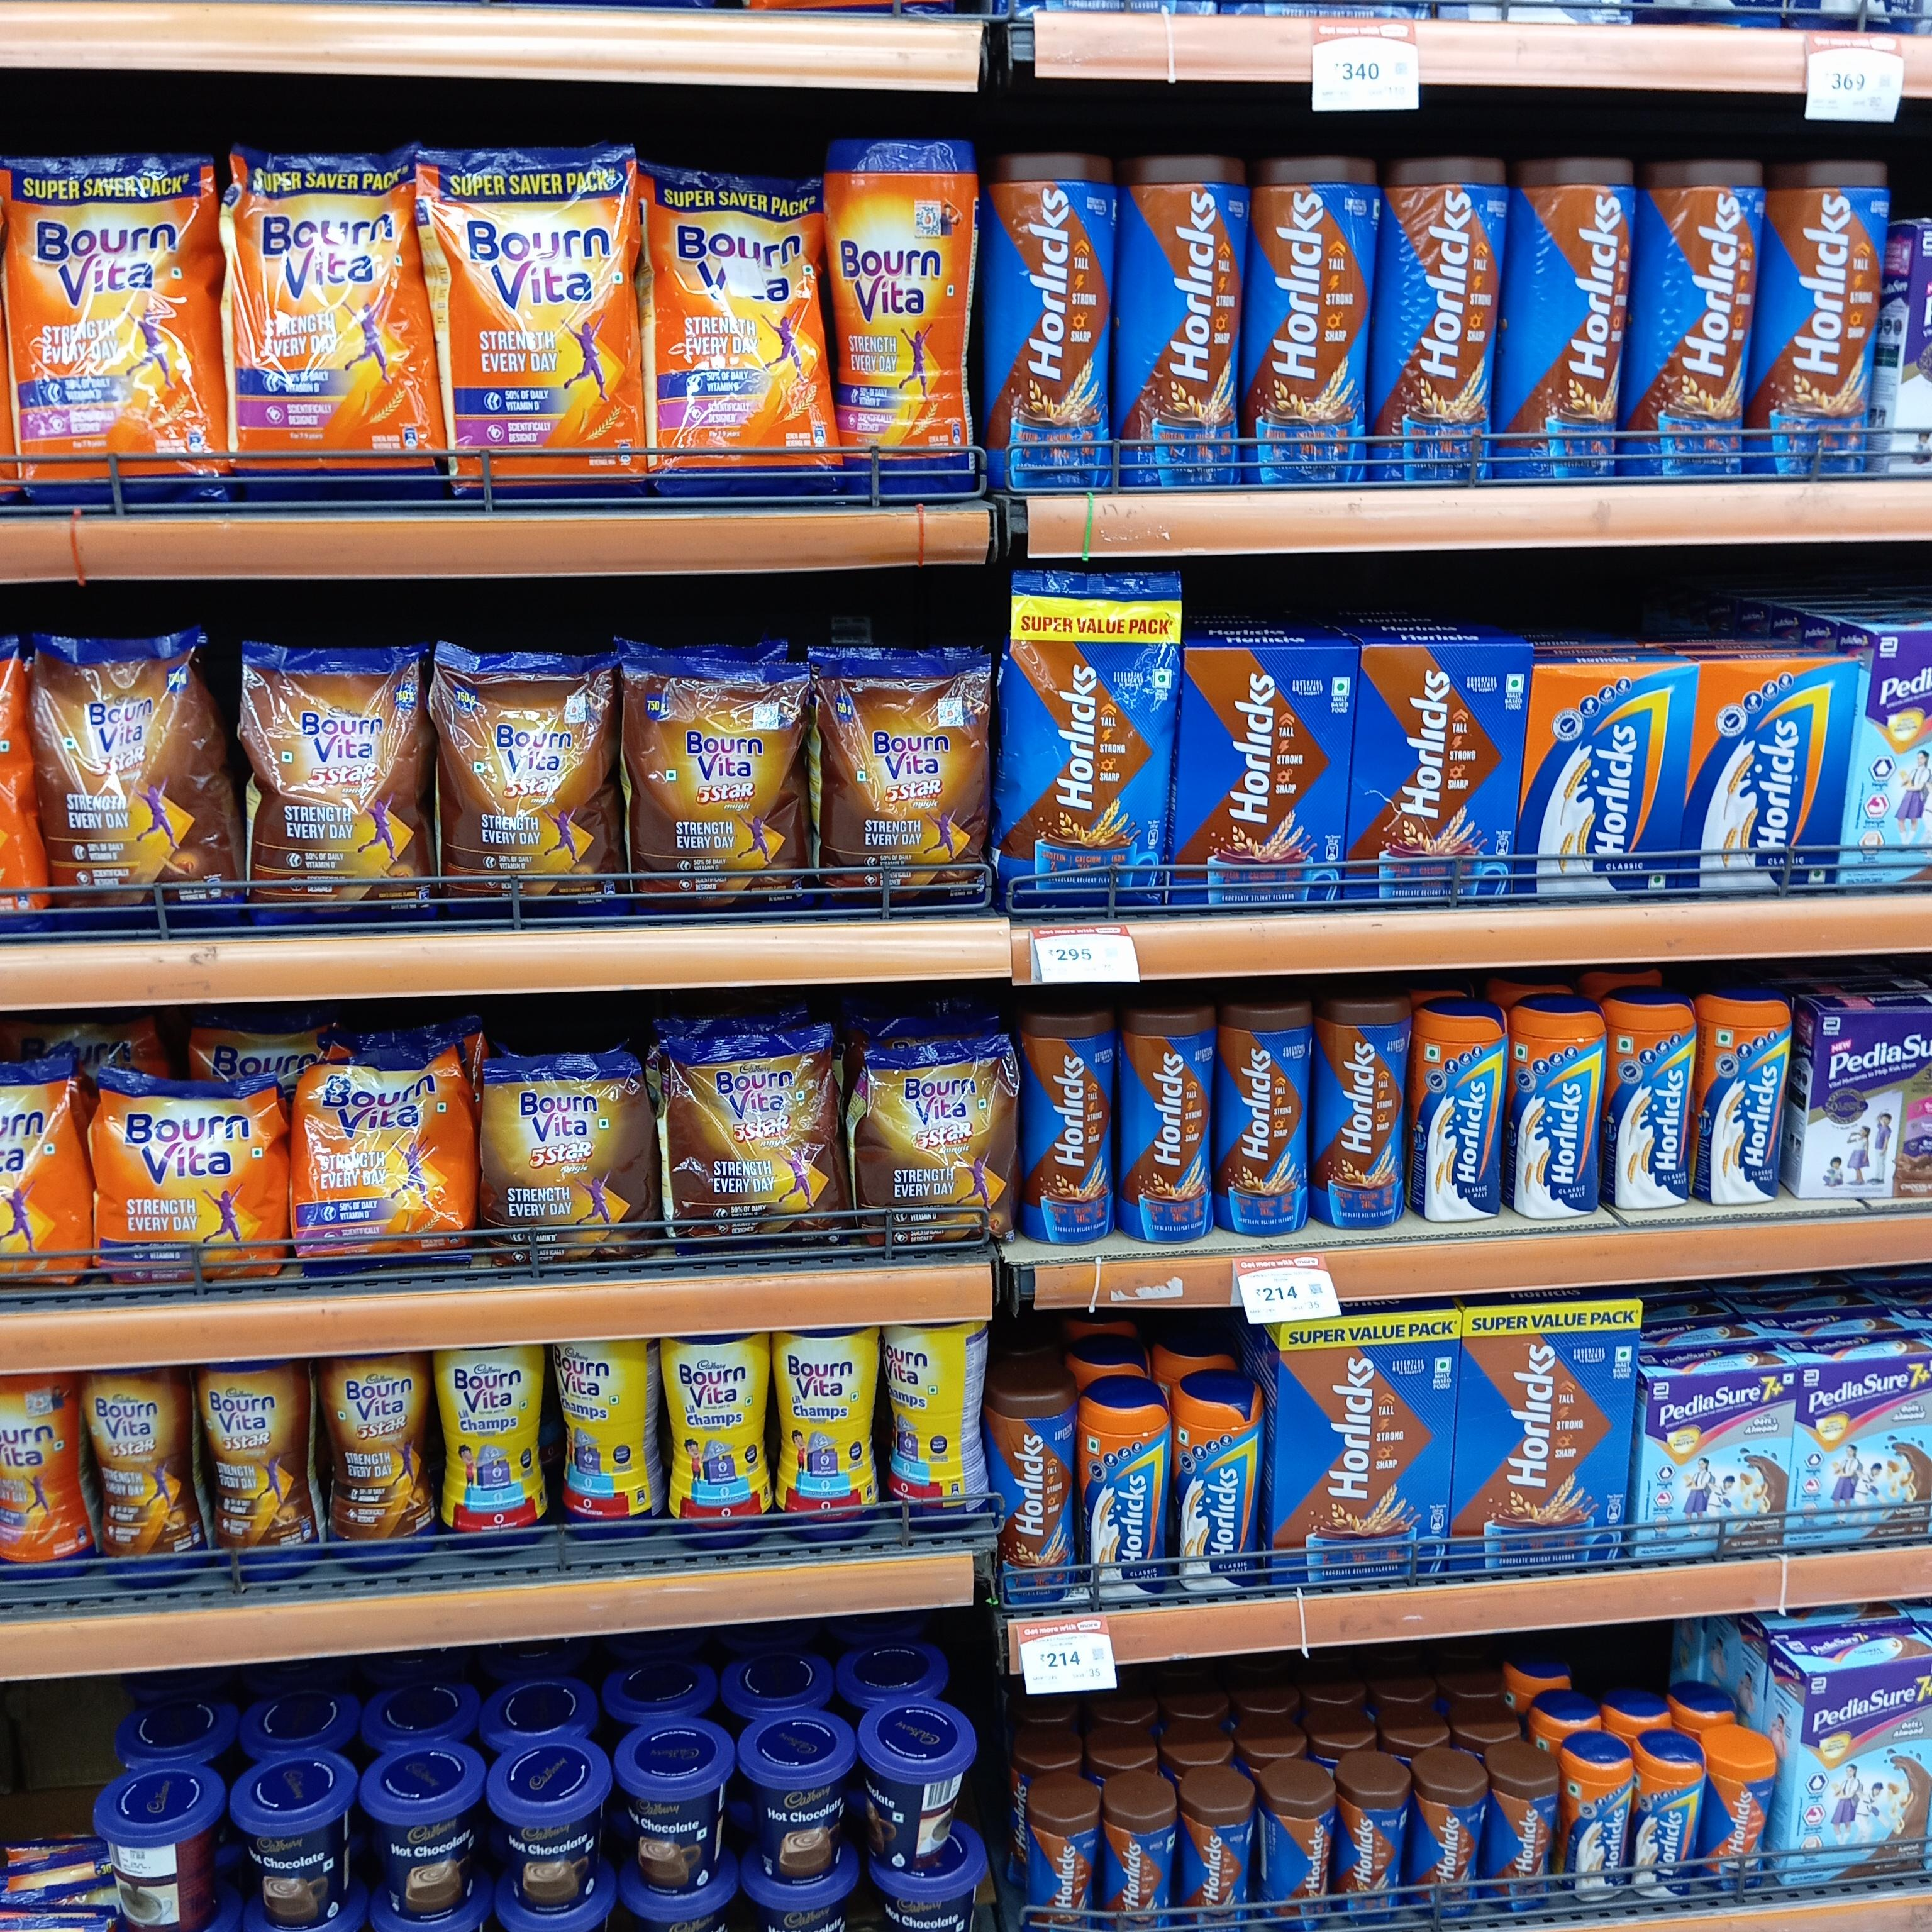HORLICK_CHOCOLATE_200_G_JAR: (1260, 1769, 1332, 1932), (1408, 1752, 1479, 1914), (1102, 1778, 1177, 1932), (1180, 1776, 1253, 1932), (1026, 1778, 1099, 1932), (1486, 1757, 1557, 1914), (1339, 1766, 1399, 1932)
HORLICK_CHOCOLATE_500_G_JAR: (991, 1376, 1076, 1599)
HORLICK_CLASSIC_MALT_200_G_JAR: (1023, 1012, 1115, 1244), (1562, 1743, 1631, 1904), (1635, 1736, 1691, 1897)
